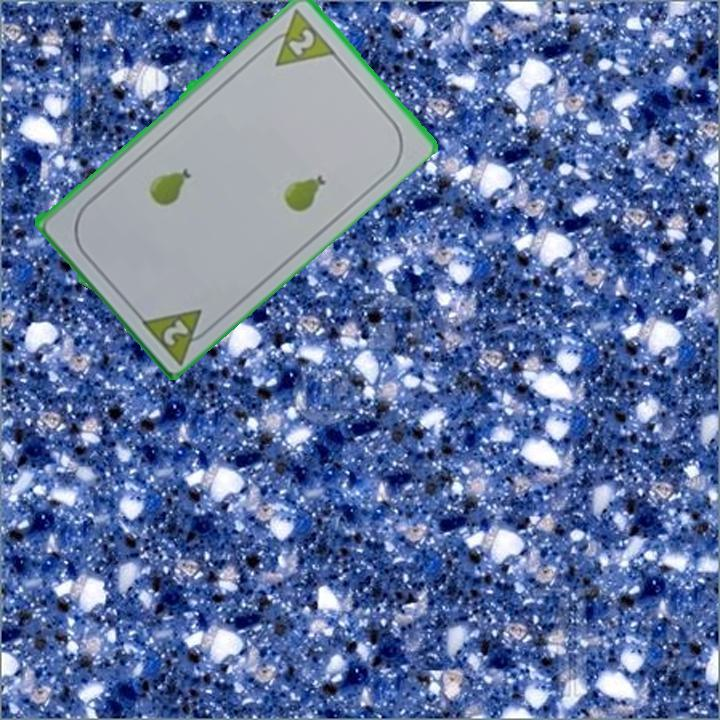2p: (135, 304, 219, 366), (284, 24, 318, 58)
